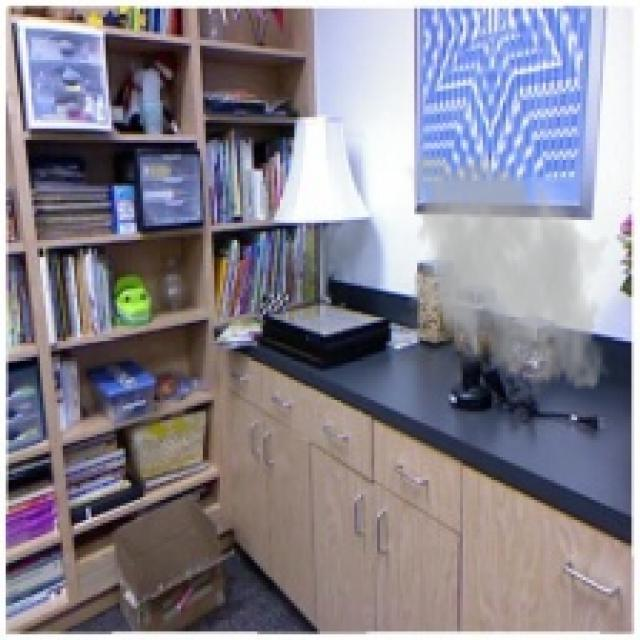Smoke: (391, 143, 620, 400)
